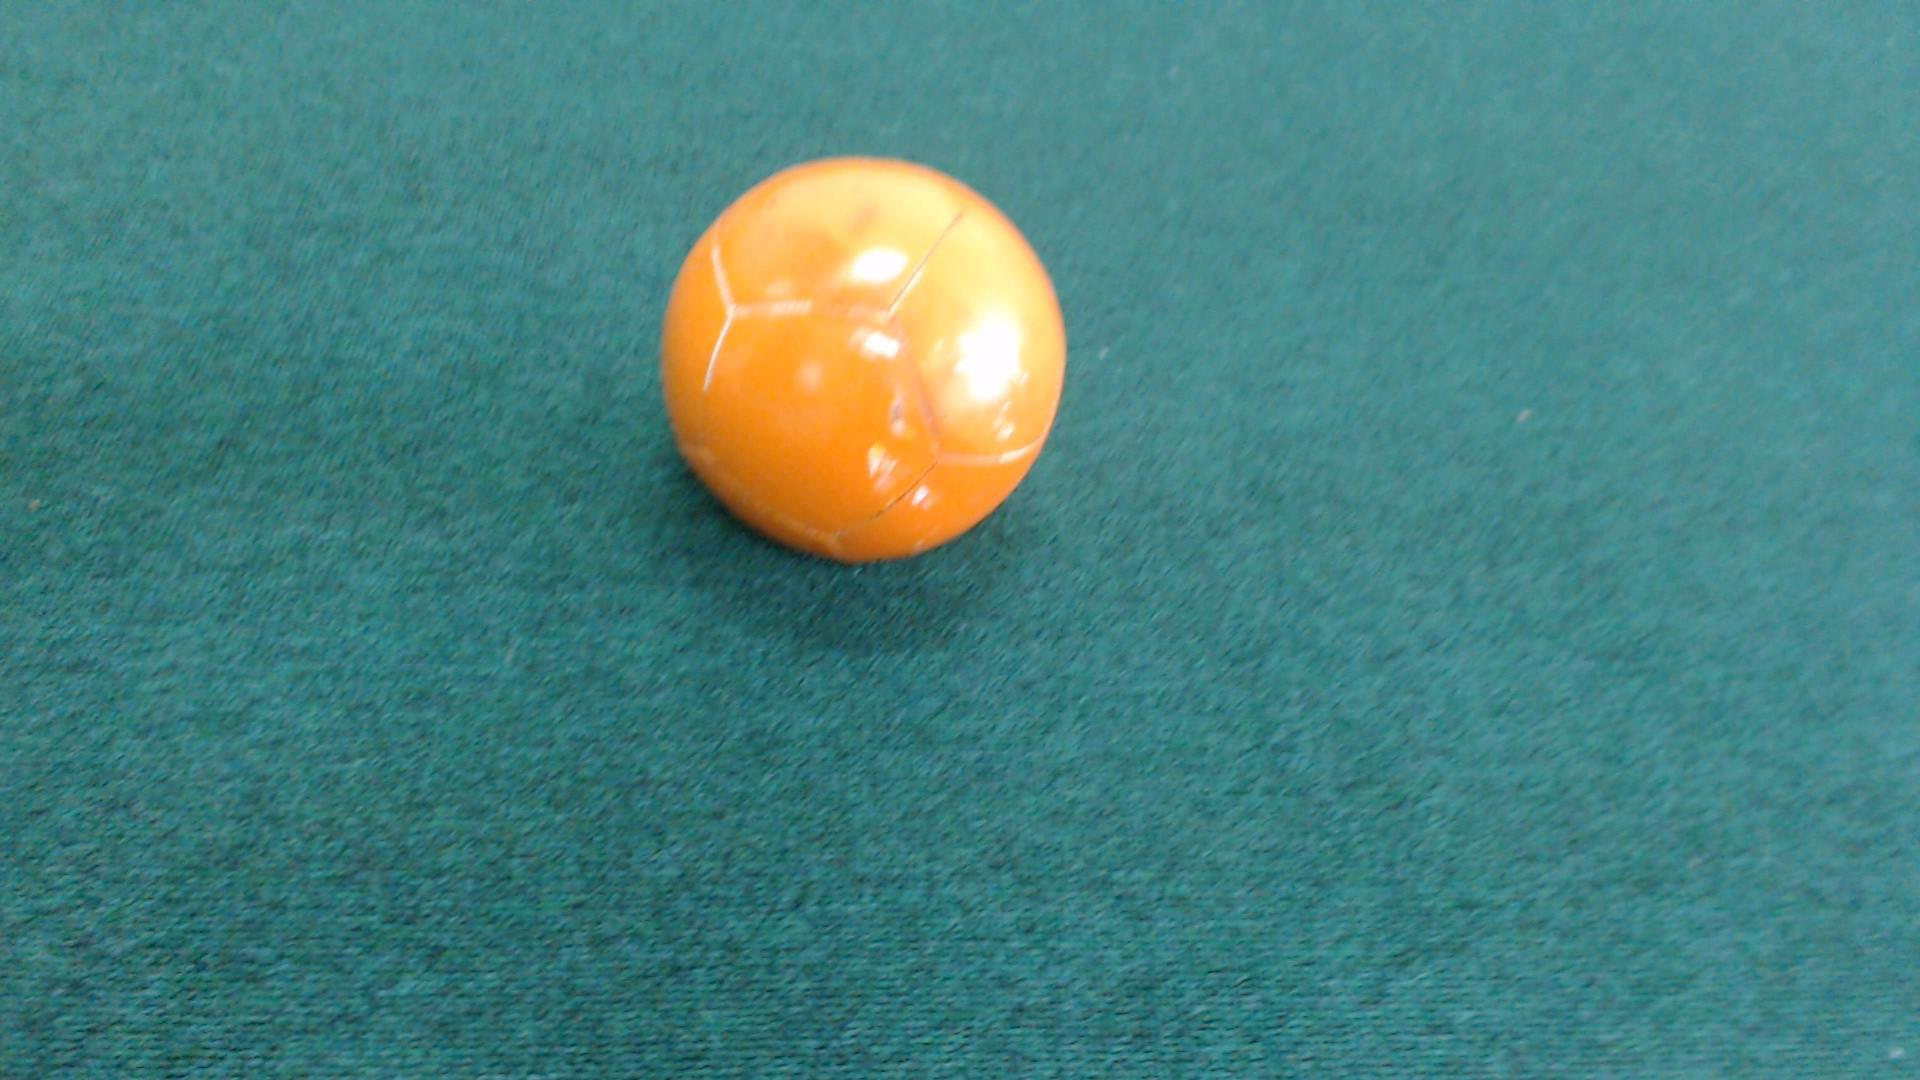bola: (634, 131, 1093, 593)
